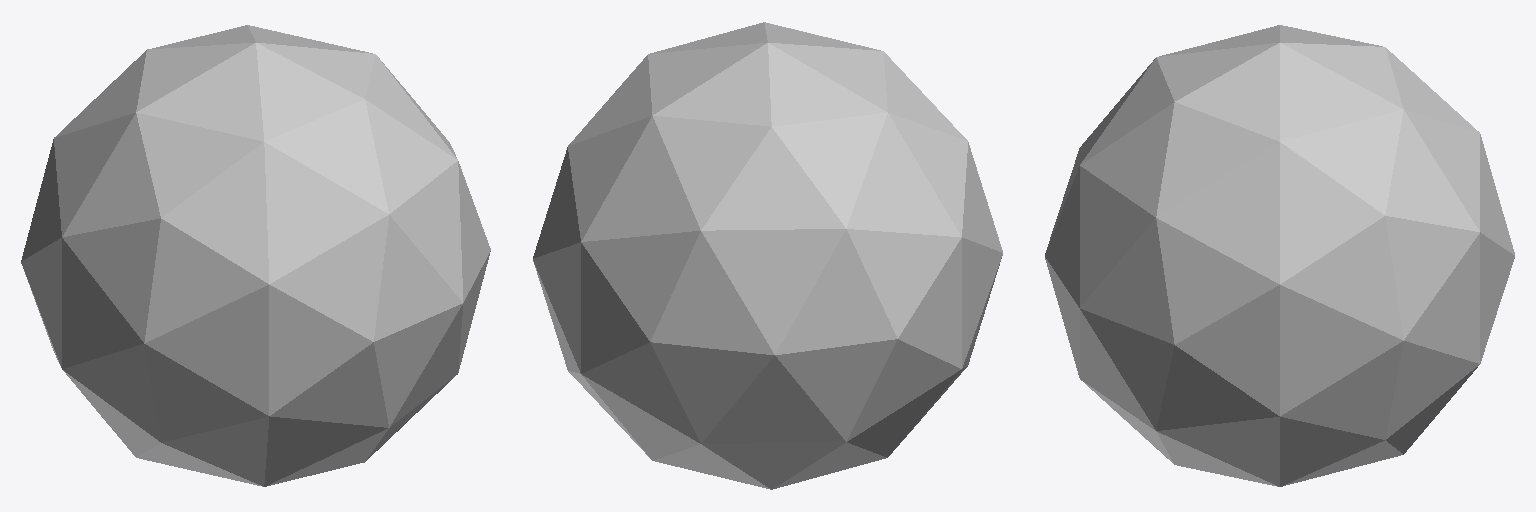
File: obstacle.obj
3 views of the same model, side by side, from view 1: azimuth 30°, elevation 25°; view 2: azimuth 150°, elevation 25°; view 3: azimuth 270°, elevation 25° (orthographic).
Parts seen in each view (by area): view 1: Exported; view 2: Exported; view 3: Exported.
Boxes of the visible parts, box(x1,y1,x2,y2) form: Exported: box(21, 25, 490, 486); Exported: box(533, 22, 1002, 489); Exported: box(1045, 25, 1514, 486).
Bounding box in the file's own units: 440 × 463 × 463.